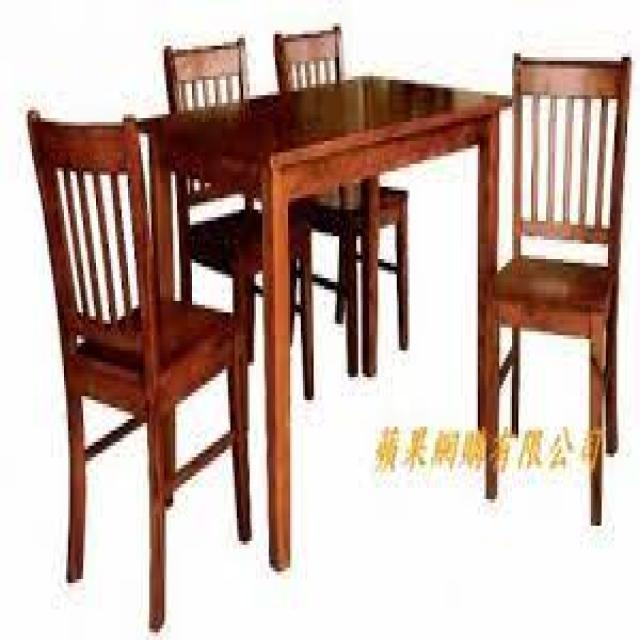table: (22, 15, 630, 617)
